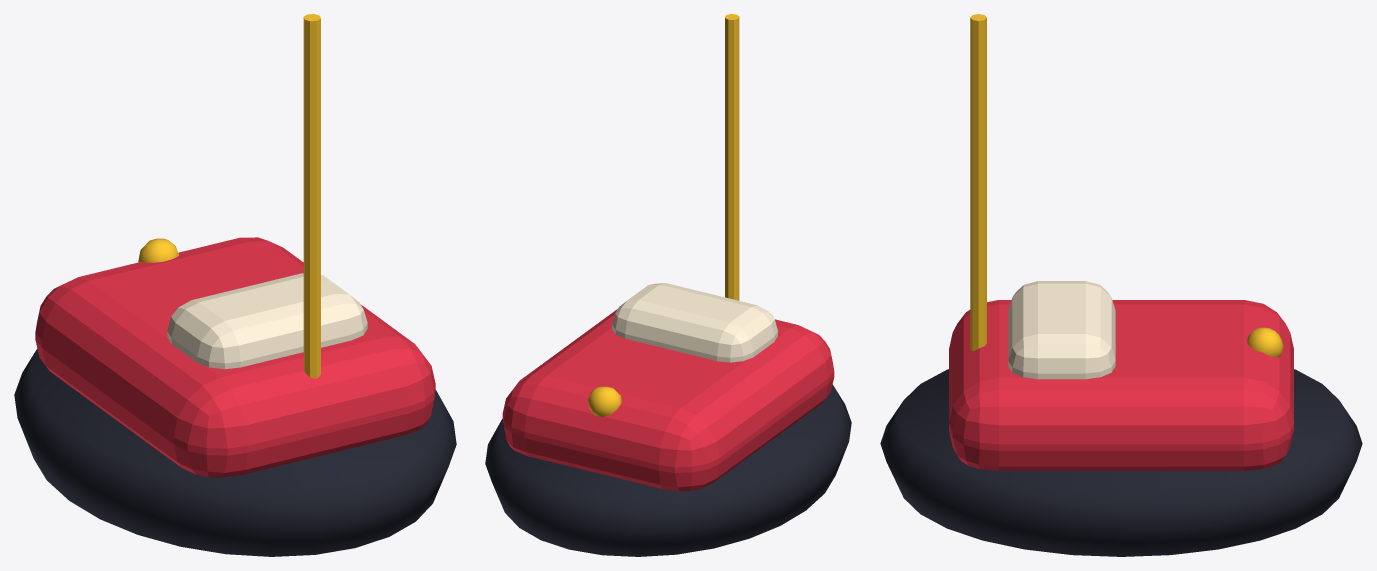
Rendered from bumper_car.glb.
3 renders of one model, left to right at view 1: azimuth 30°, elevation 25°; view 2: azimuth 150°, elevation 25°; view 3: azimuth 270°, elevation 25°, orthographic. The views are drawn at different scales.
Visible parts, largest first — view 1: bumper_car; view 2: bumper_car; view 3: bumper_car.
Part boxes in pixels (x1,y1,x2,y2): bumper_car: (14,14,456,556); bumper_car: (485,14,851,556); bumper_car: (880,14,1362,556).
Size of the model in its own units: 3.24 by 4.3 by 4.05.
